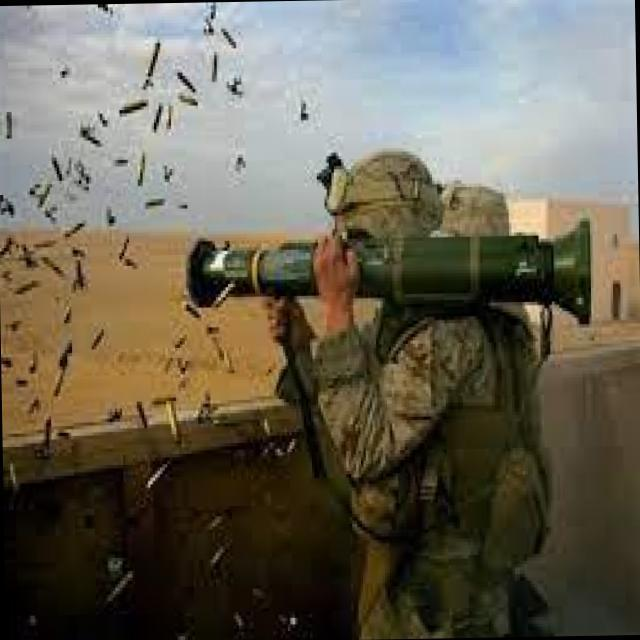rocket: (178, 214, 606, 324)
